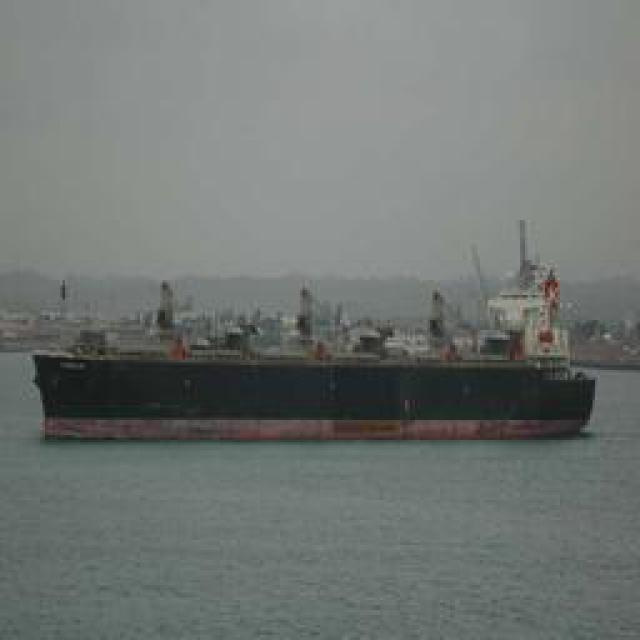Ship: (26, 260, 611, 448)
